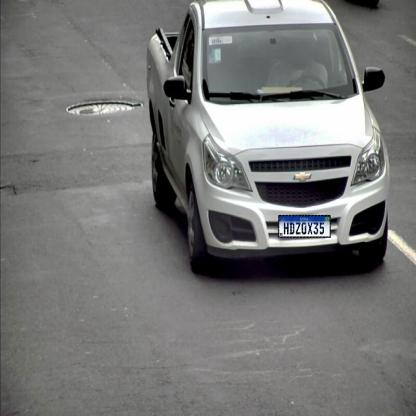PlacaM: (278, 215, 331, 238)
